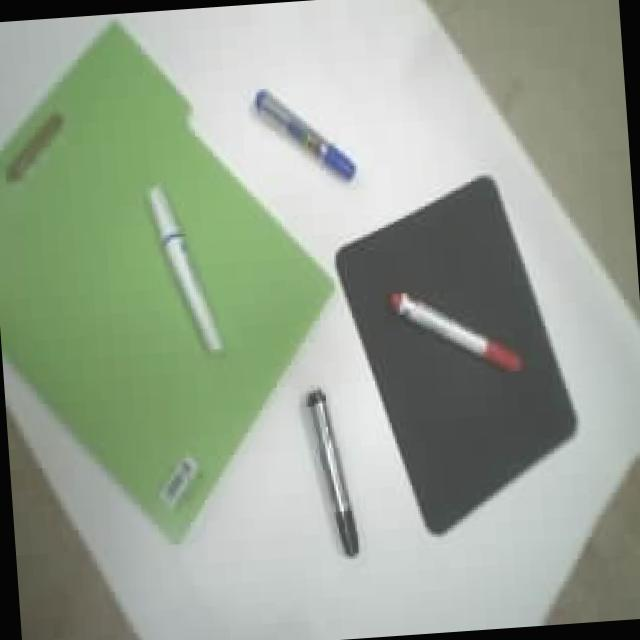board-marker: (149, 184, 221, 349), (391, 292, 522, 367), (255, 88, 356, 179), (307, 387, 358, 553)
